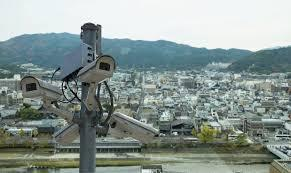tutu: (101, 109, 167, 147), (5, 72, 72, 103), (65, 53, 121, 85)
